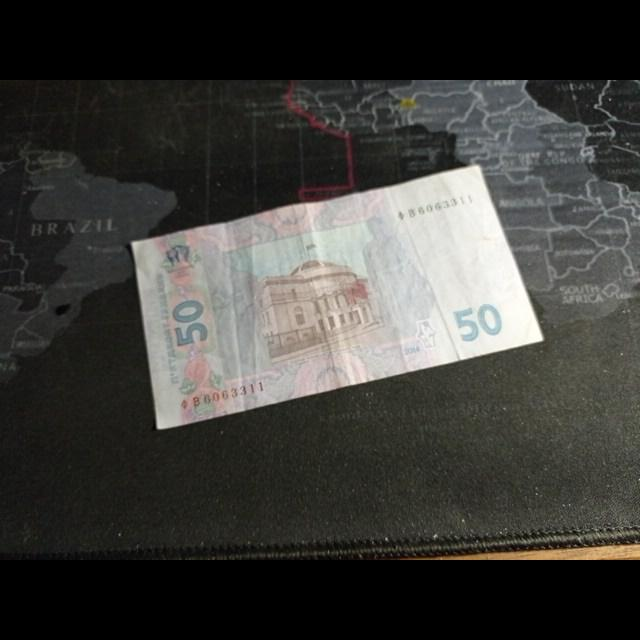50uah: (132, 164, 547, 431)
